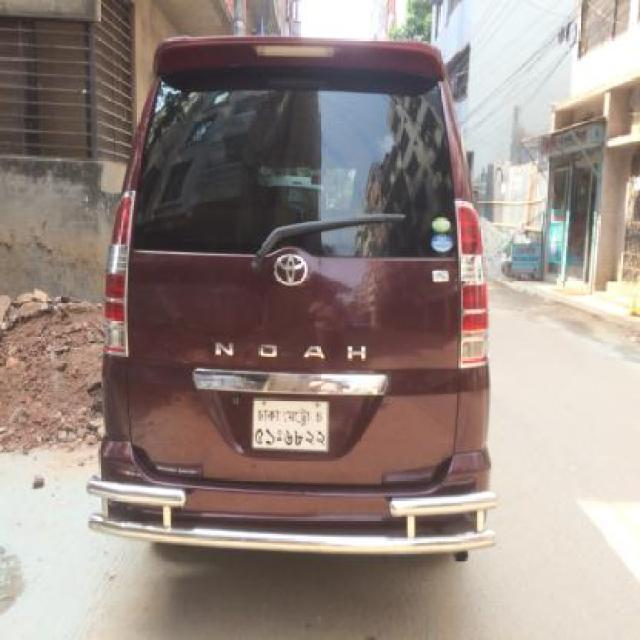numberplate: (248, 397, 330, 454)
